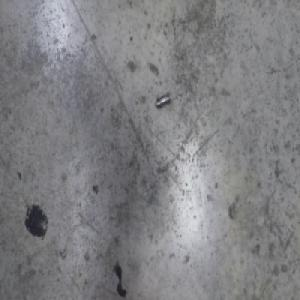Bolt: (155, 92, 171, 111)
